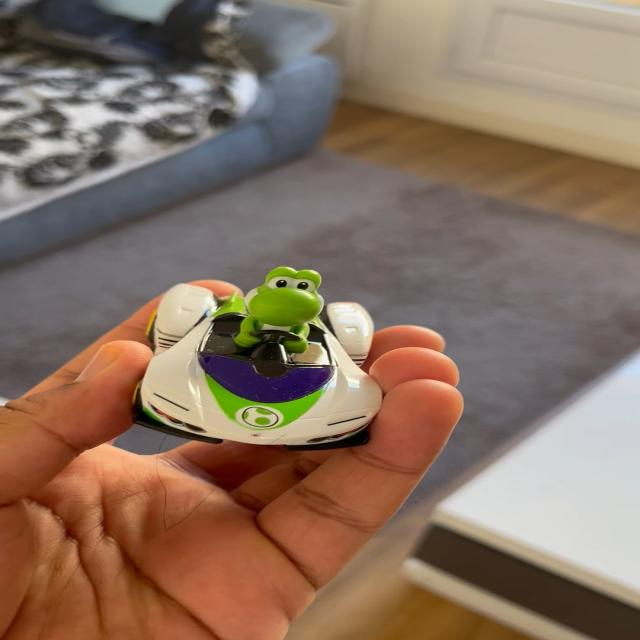yoshi: (121, 258, 410, 456)
